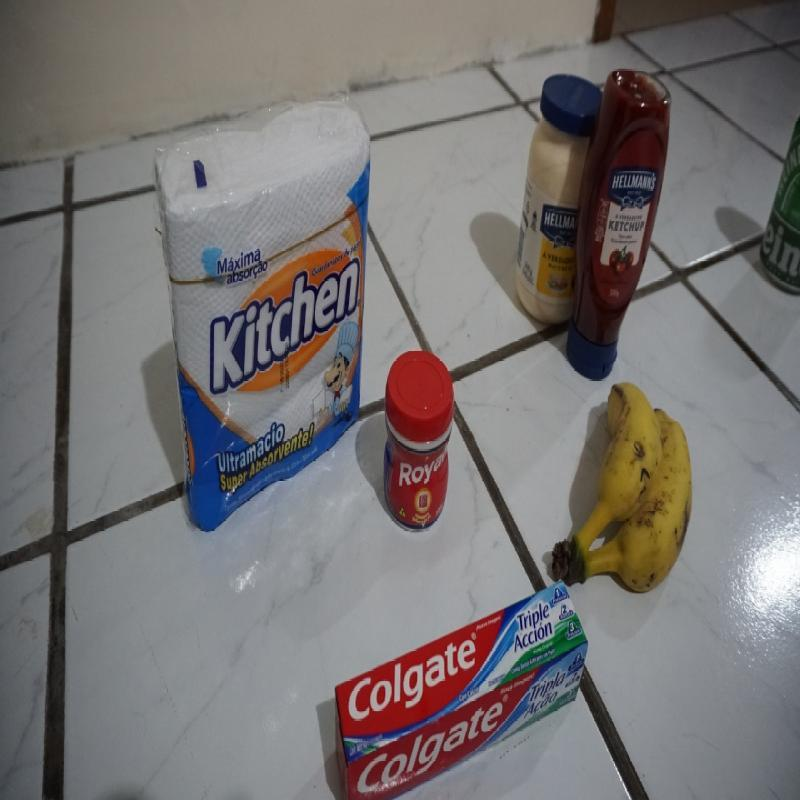Banana: (550, 382, 695, 592)
Beer can: (757, 116, 800, 294)
Ketchup: (583, 64, 670, 385)
Mayonnaise: (517, 76, 578, 328)
Napkin: (160, 94, 372, 530)
Toothpaste: (336, 582, 588, 798)
Yeast: (379, 349, 455, 537)
